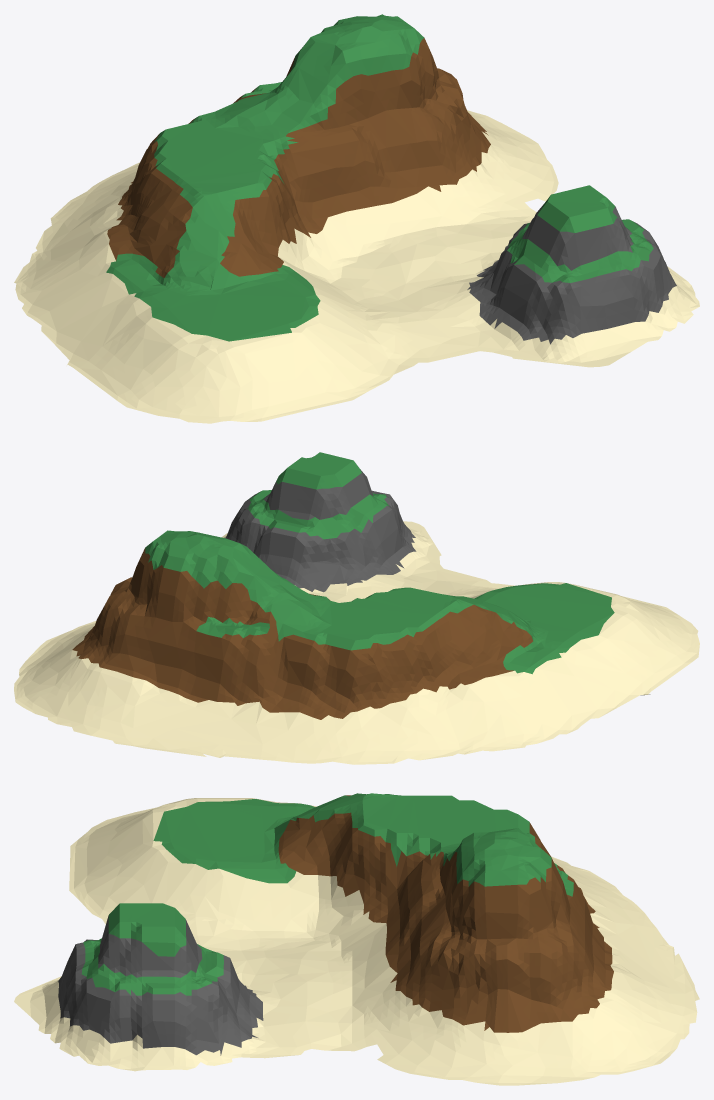
File: islandNew4.fbx
3 renders of one model, top to bottom at view 1: azimuth 30°, elevation 25°; view 2: azimuth 150°, elevation 25°; view 3: azimuth 270°, elevation 25°, orthographic. The views are drawn at different scales.
Visible parts, largest first — view 1: Plane.003; view 2: Plane.003; view 3: Plane.003.
Boxes of the visible parts, left/top/right/bottom form: Plane.003: left=14, top=14, right=699, bottom=423; Plane.003: left=14, top=452, right=699, bottom=764; Plane.003: left=14, top=793, right=699, bottom=1085.
Size of the model in its own units: 1889 by 501 by 1938.
